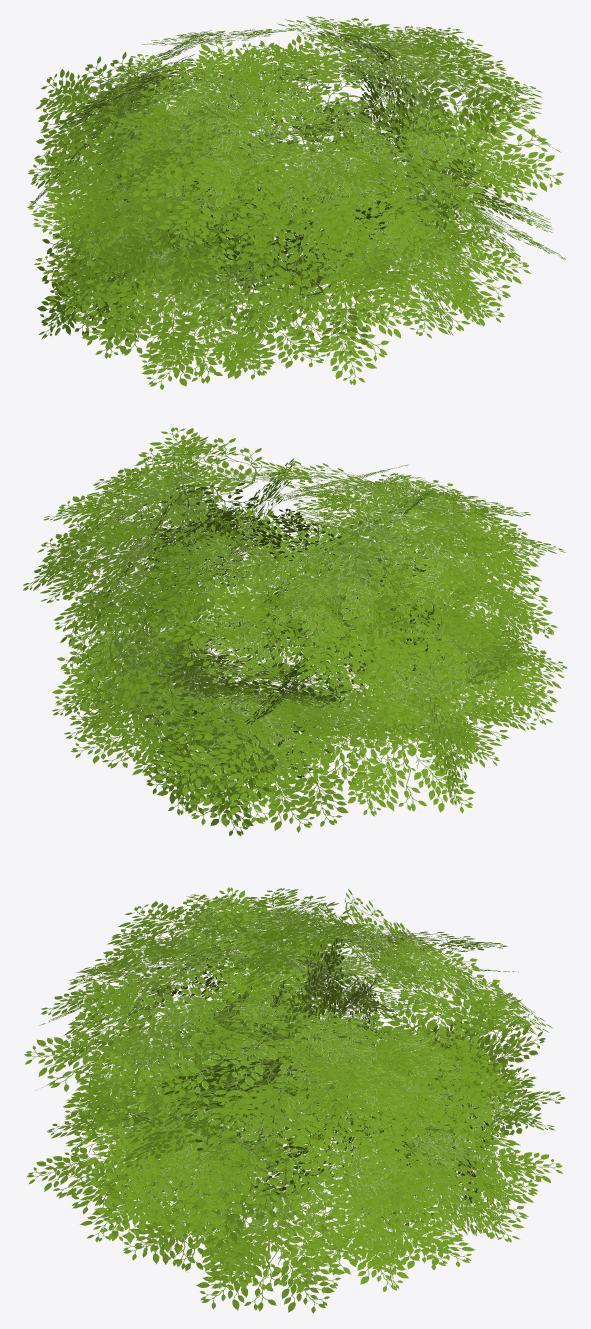
The picture shows the model from 3 angles, top to bottom: view 1: azimuth 30°, elevation 25°; view 2: azimuth 150°, elevation 25°; view 3: azimuth 270°, elevation 25°; orthographic projection. The views are drawn at different scales.
Visible parts, largest first — view 1: leaves; view 2: leaves; view 3: leaves.
Part boxes in pixels (box(x1,y1,x2,y2)): leaves: box(27, 16, 566, 389); leaves: box(23, 427, 567, 835); leaves: box(24, 887, 565, 1313).
Bounding box in the file's own units: 4.17 × 2.37 × 3.88.
Materials: 1 (1 with a texture image).
